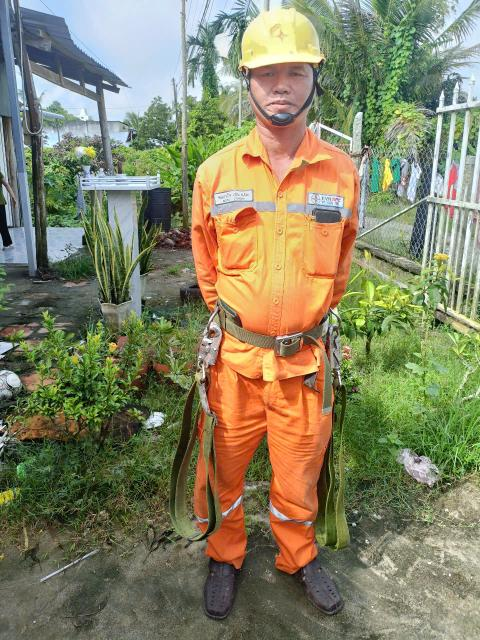harness: (205, 284, 364, 378)
helmet: (220, 10, 363, 75)
shoes: (280, 534, 362, 630), (193, 549, 243, 621)
